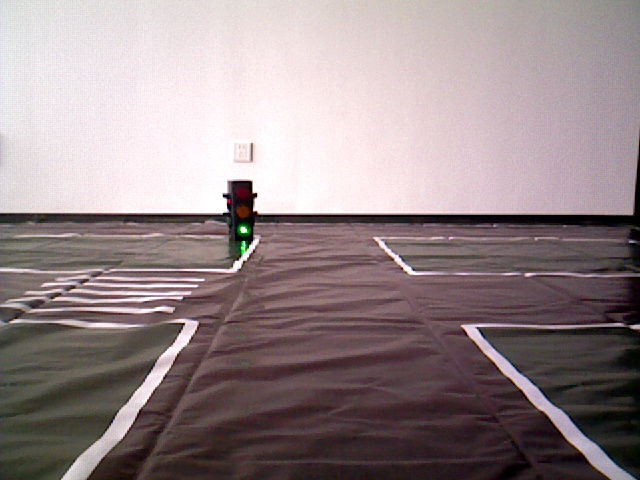green: (225, 184, 252, 237)
